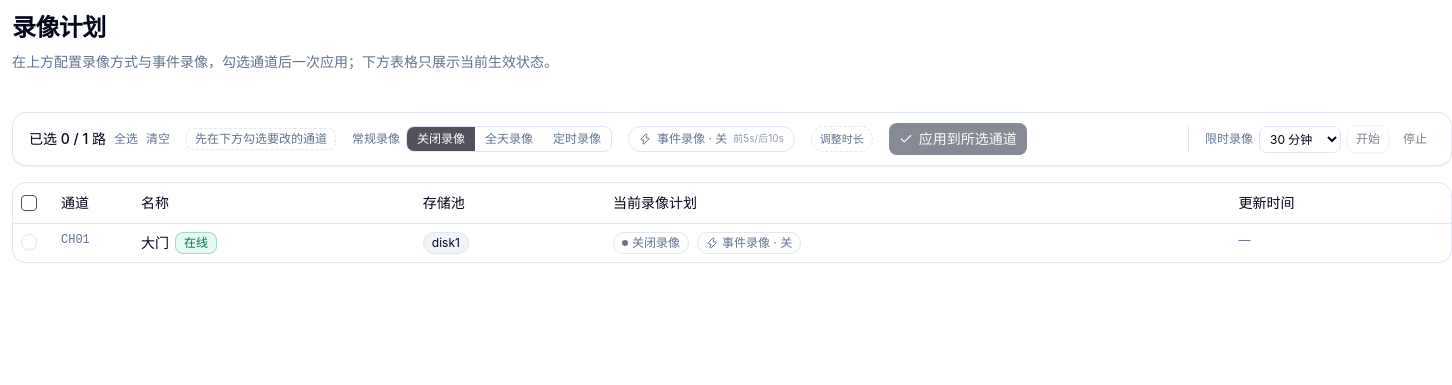
Test: event clip lead and trail are editable and say they are site-wide
The width and height of the screenshot is (1452, 385).
Click the button "调整时长". click: (842, 139)
box: [811,126,873,152]
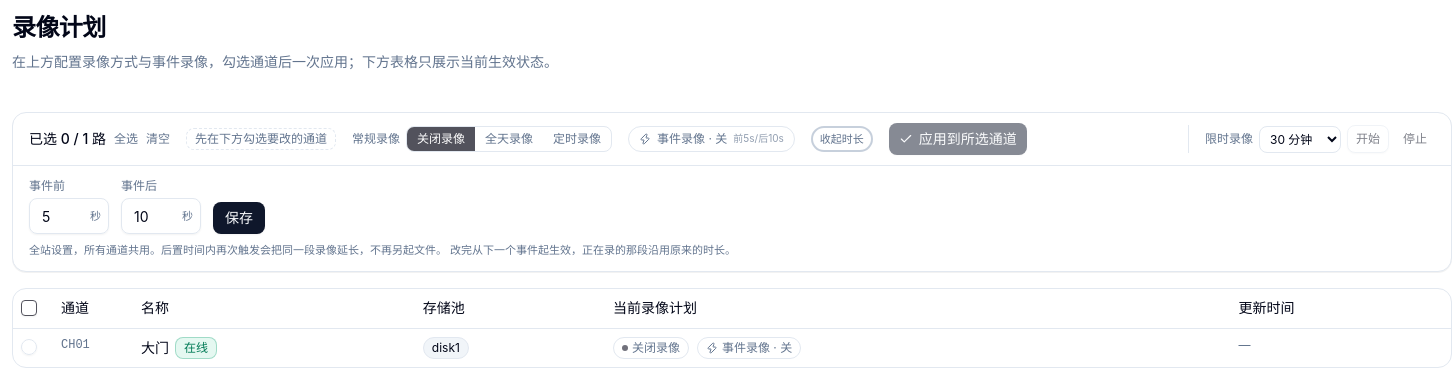
Check: the number field named "事件录像前置秒数" is shown, box [29,198,109,234]
Check: the number field named "事件录像后置秒数" is shown, box [121,198,201,234]
Check: the text "从下一个事件起生效" is shown, box [29,243,736,257]
